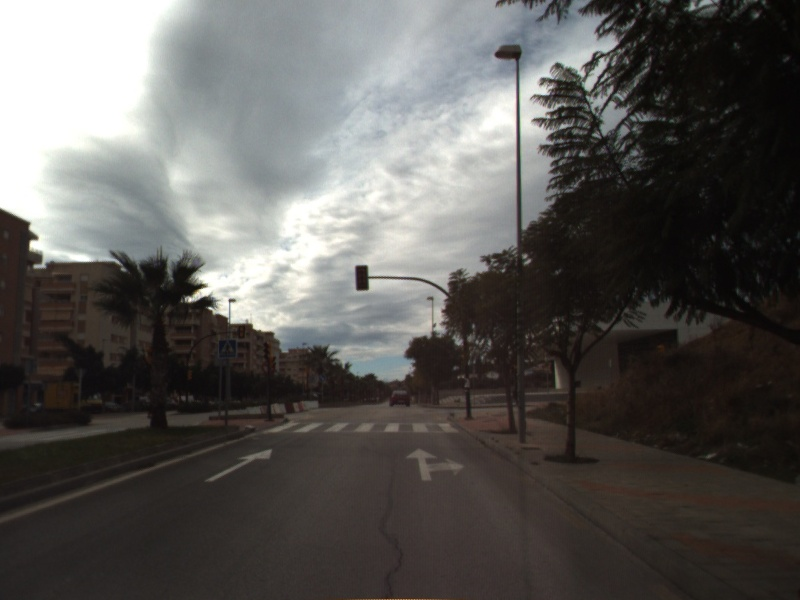STRAIGHT: (202, 447, 274, 484)
STRAIGHT_RIGHT: (404, 446, 466, 483)
